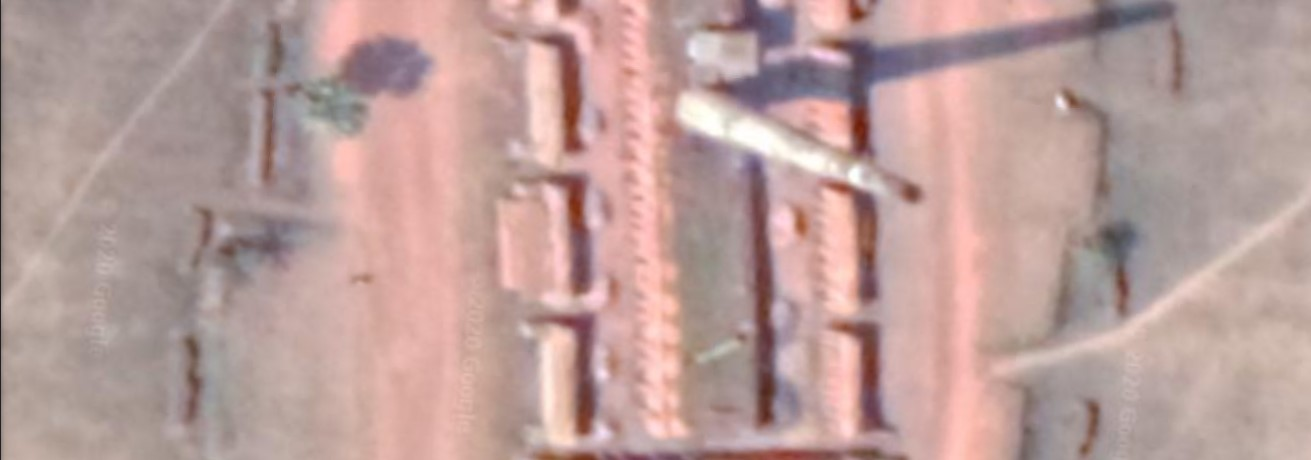kiln: (514, 22, 1009, 407)
